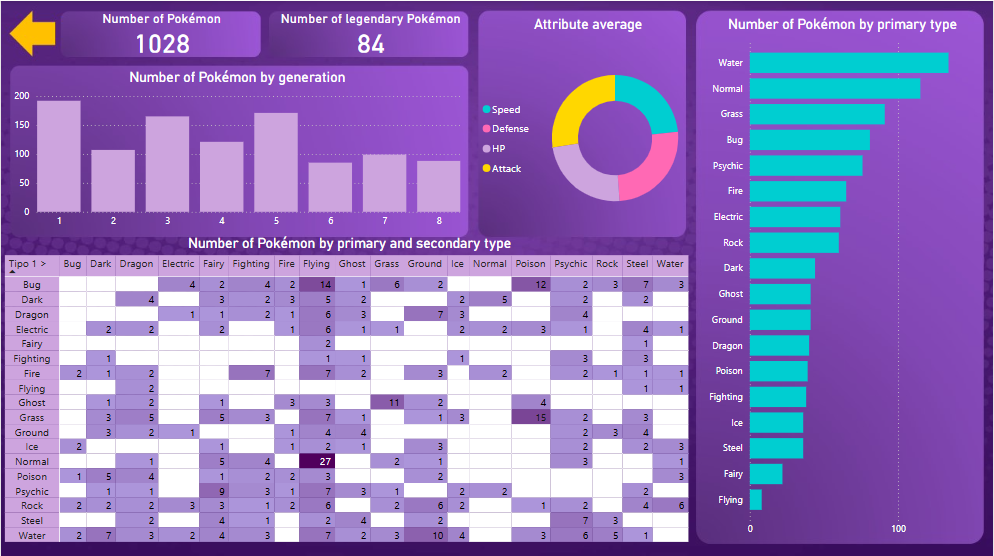

What the dashboard file says about the page in this screenshot:
{"tool":"powerbi","page":{"name":"Analise Geral","canvas":[1280,720],"ordinal":1},"visuals":[{"type":"card","title":"Number of Pokémon","fields":{"Values":["Count(pokemon_gen_1_to_8.name)"]},"box":[81.8,12.7,252.3,59.2],"z":0},{"type":"barChart","title":"Number of Pokémon by primary type","fields":{"Category":["pokedex.type_1"],"Y":["CountNonNull(pokedex.name)"]},"box":[902.9,19,365,679.8],"z":1000},{"type":"card","title":" Number of legendary Pokémon","fields":{"Values":["Count(pokemon_gen_1_to_8.name)"]},"box":[351,12.7,252.3,59.2],"z":2000},{"type":"columnChart","title":"Number of Pokémon by generation","fields":{"Y":["CountNonNull(pokedex.name)"],"Category":["pokedex.generation"]},"box":[11.3,87.4,586.4,214.3],"z":3000},{"type":"pivotTable","title":"Number of Pokémon by primary and secondary type","fields":{"Values":["CountNonNull(pokedex.name)"],"Rows":["pokedex.type_1"],"Columns":["pokedex.type_2"]},"box":[0,301.7,899.4,418.7],"z":4000},{"type":"donutChart","title":"Attribute average","fields":{"Y":["Avg(pokedex.speed)","Avg(pokedex.defense)","Avg(pokedex.hp)","Avg(pokedex.attack)"]},"box":[615.8,19,283.7,294.1],"z":5000},{"type":"shape","box":[11.3,12.7,60.6,60.6],"z":6000}]}

Visuals, with their boxes in screenshot pixels (x1, y1, x2, y2), scaled from the page's 1280x720 canvas onto the 994x556 screenshot:
"Number of Pokémon" card: Rect(64, 10, 259, 56)
"Number of Pokémon by primary type" barChart: Rect(701, 15, 985, 540)
" Number of legendary Pokémon" card: Rect(273, 10, 469, 56)
"Number of Pokémon by generation" columnChart: Rect(9, 67, 464, 233)
"Number of Pokémon by primary and secondary type" pivotTable: Rect(0, 233, 698, 555)
"Attribute average" donutChart: Rect(478, 15, 699, 242)
shape: Rect(9, 10, 56, 57)
